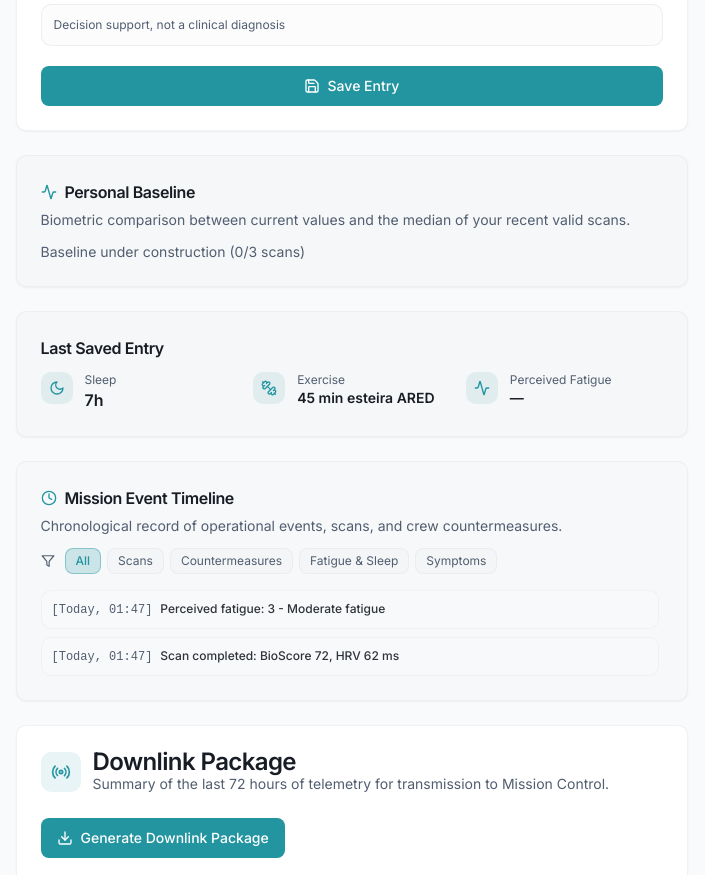
MissionLog (AAA Pattern) › 12. Componente MissionLog sob LangProvider (EN e PT) (AAA) › filtra eventos na timeline por tipo e formata em EN dinamicamente
(page scrolled)
Check: the text "Scan completed: BioScore 72, HRV 62 ms" is shown, box top-left (160, 648), bottom-right (399, 663)
Check: the text "Perceived fatigue: 3 - Moderate fatigue" is shown, box top-left (160, 601), bottom-right (385, 616)
// Clica no filtro "Scans"
Click the button "Scans".
click(136, 561)  # box top-left (107, 548), bottom-right (164, 574)
(page scrolled)
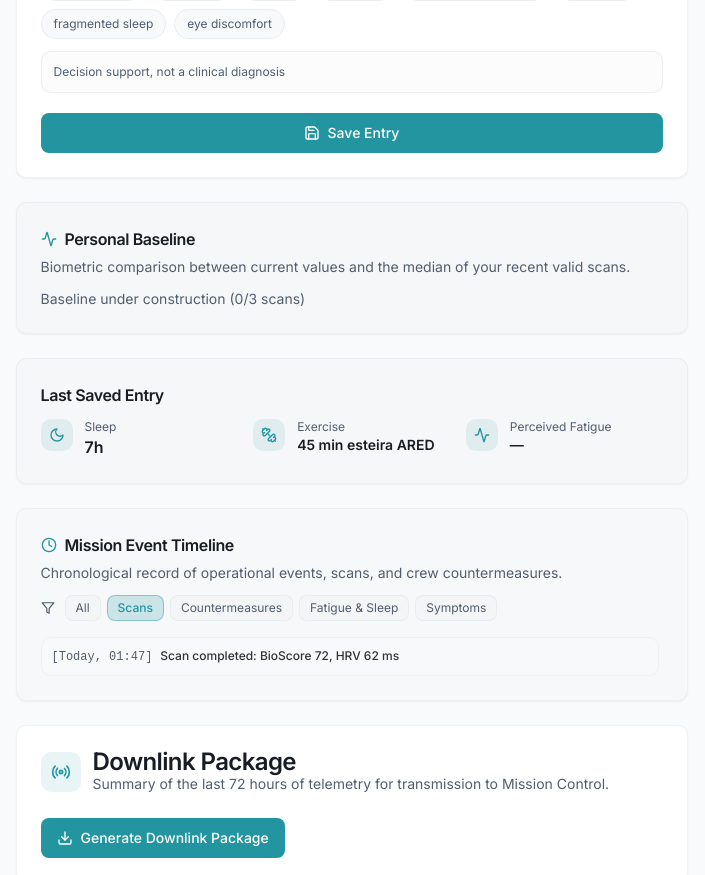
Check: the text "Scan completed: BioScore 72, HRV 62 ms" is shown, box top-left (160, 648), bottom-right (399, 663)
Check: the text "Perceived fatigue: 3 - Moderate fatigue" is gone
